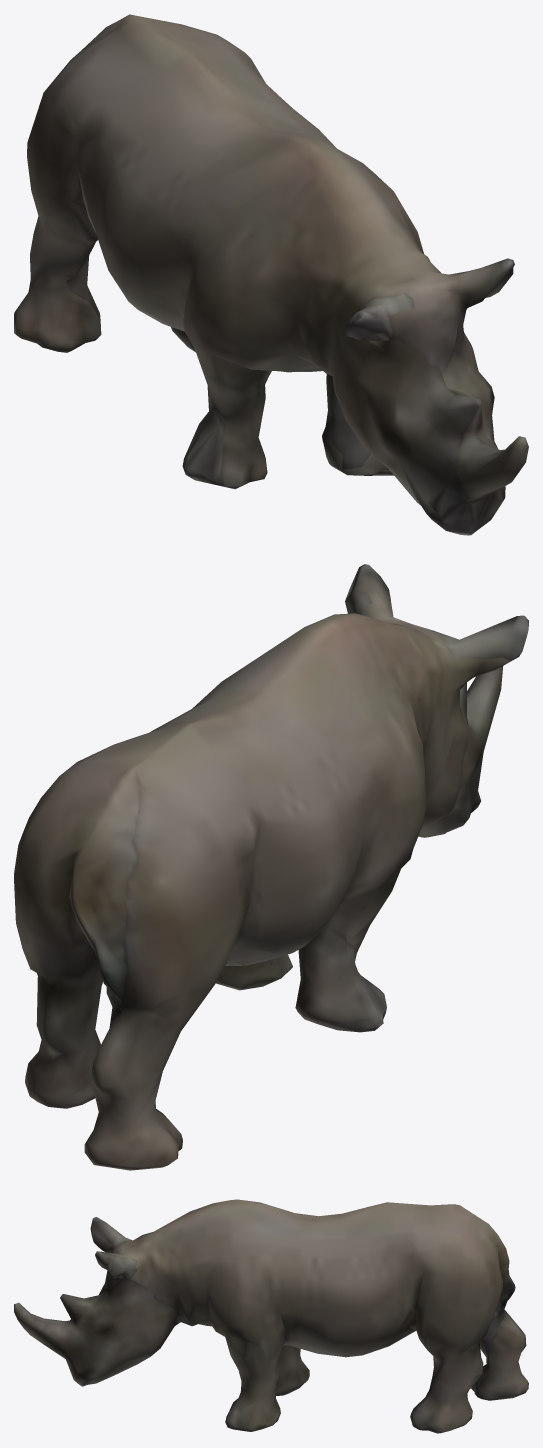
The model's file is Schleich_African_Black_Rhino-medium.glb.
The picture shows the model from 3 angles, top to bottom: view 1: azimuth 30°, elevation 25°; view 2: azimuth 150°, elevation 25°; view 3: azimuth 270°, elevation 25°; orthographic projection. The views are drawn at different scales.
Visible parts, largest first — view 1: Schleich_African_Black_Rhino; view 2: Schleich_African_Black_Rhino; view 3: Schleich_African_Black_Rhino.
Part boxes in pixels (bbox=[...]): Schleich_African_Black_Rhino: bbox=[14, 14, 528, 535]; Schleich_African_Black_Rhino: bbox=[14, 564, 528, 1170]; Schleich_African_Black_Rhino: bbox=[14, 1199, 528, 1433].
Size of the model in its own units: 0.0411 by 0.0599 by 0.1371.
Materials: 1 (1 with a texture image).
